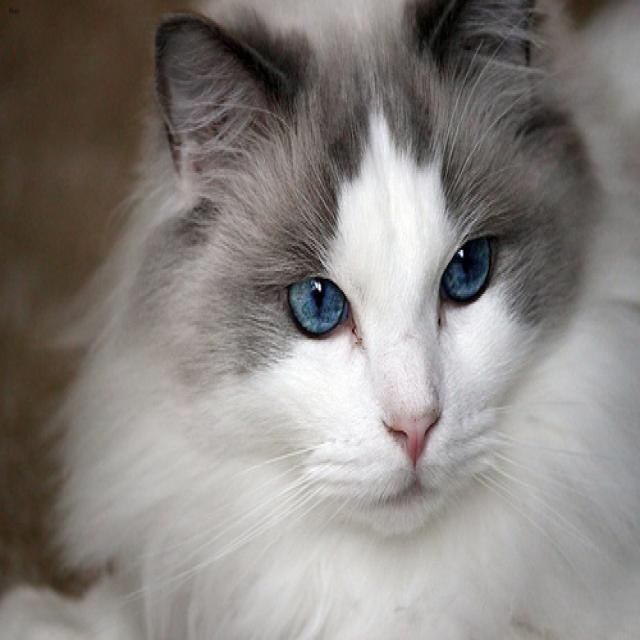cat: (152, 0, 564, 536)
